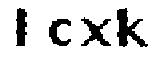c: (47, 16, 71, 50)
k: (115, 6, 150, 49)
l: (12, 3, 29, 51)
x: (79, 17, 112, 51)
